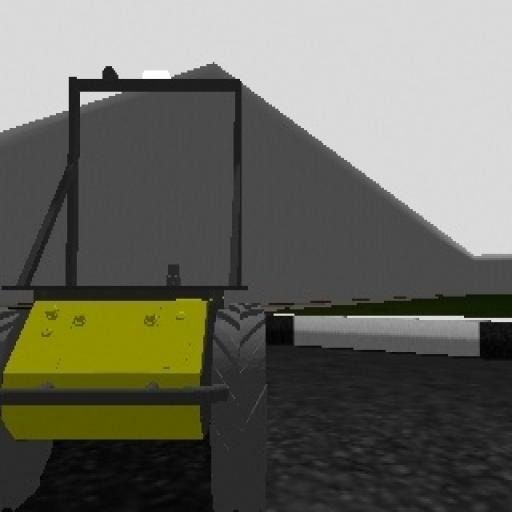huskya200: (0, 49, 281, 512)
